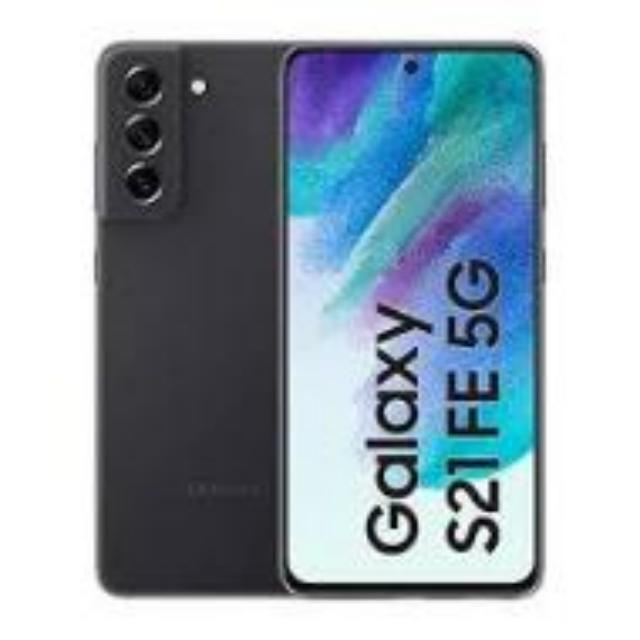Phone: (275, 44, 547, 596), (100, 39, 278, 594)
